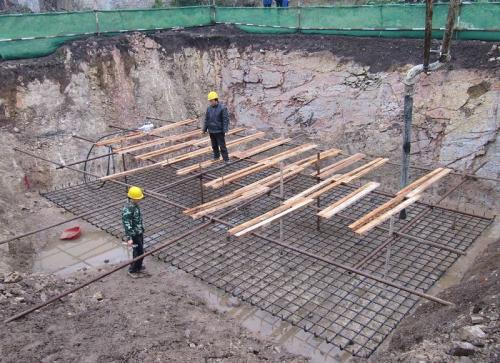hard-hat: (127, 185, 144, 199), (207, 91, 219, 101)
person: (200, 90, 230, 162), (122, 186, 146, 274)
